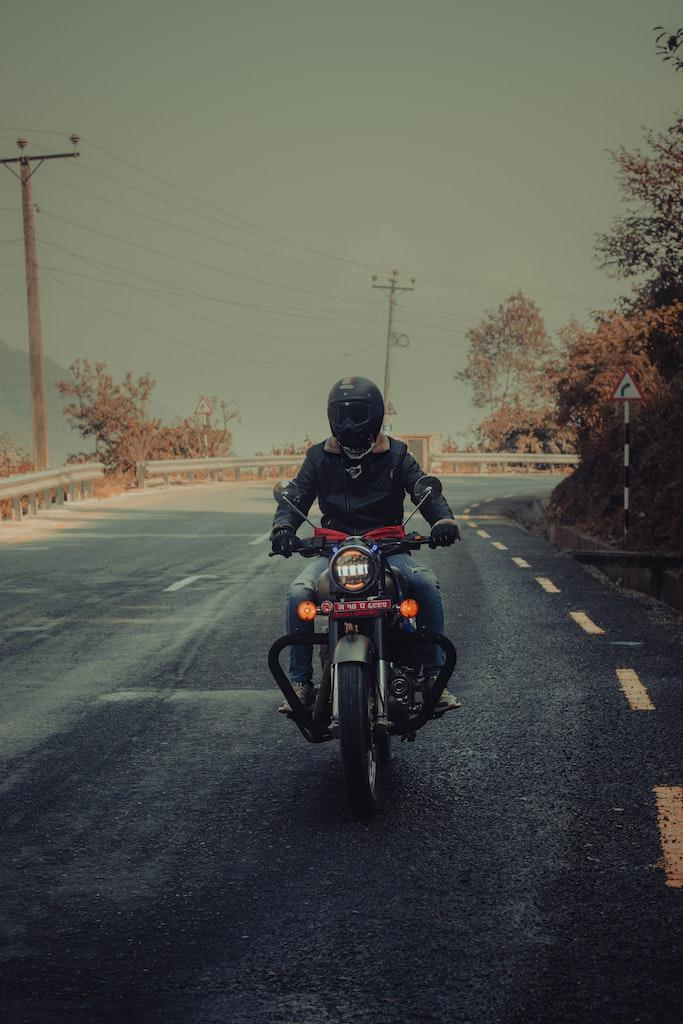helmet: (327, 375, 385, 450)
